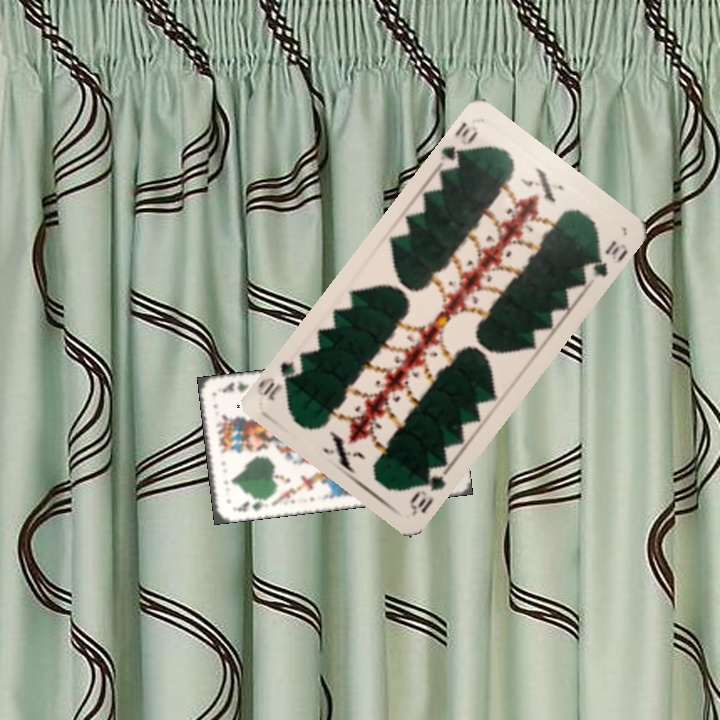G10: (435, 118, 481, 173), (405, 461, 451, 516)
GK: (228, 495, 268, 514)
